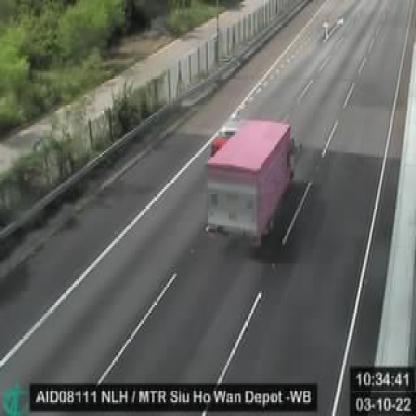Truck: (206, 118, 292, 239)
